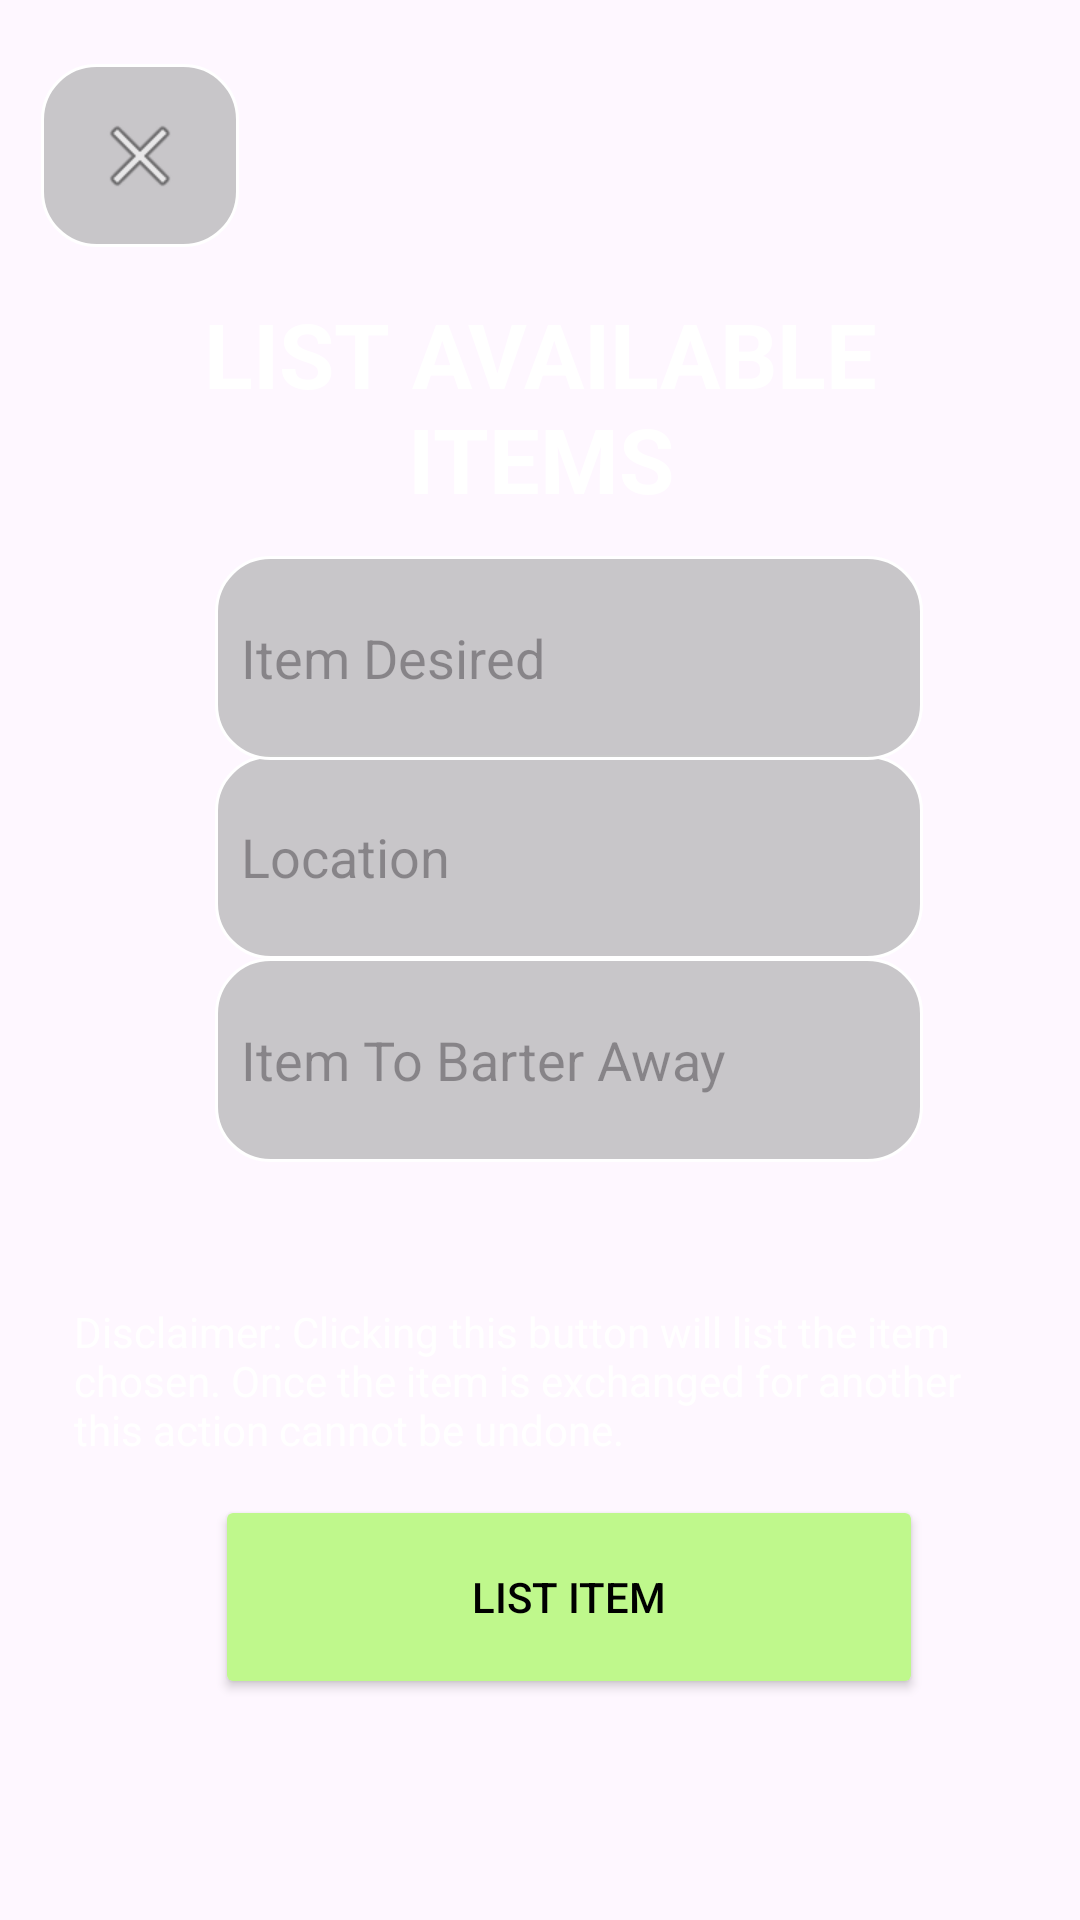

Screen size 1080px x 1920px. Icon name, then its center in pixels as (x,y):
cancel: (140,155)
